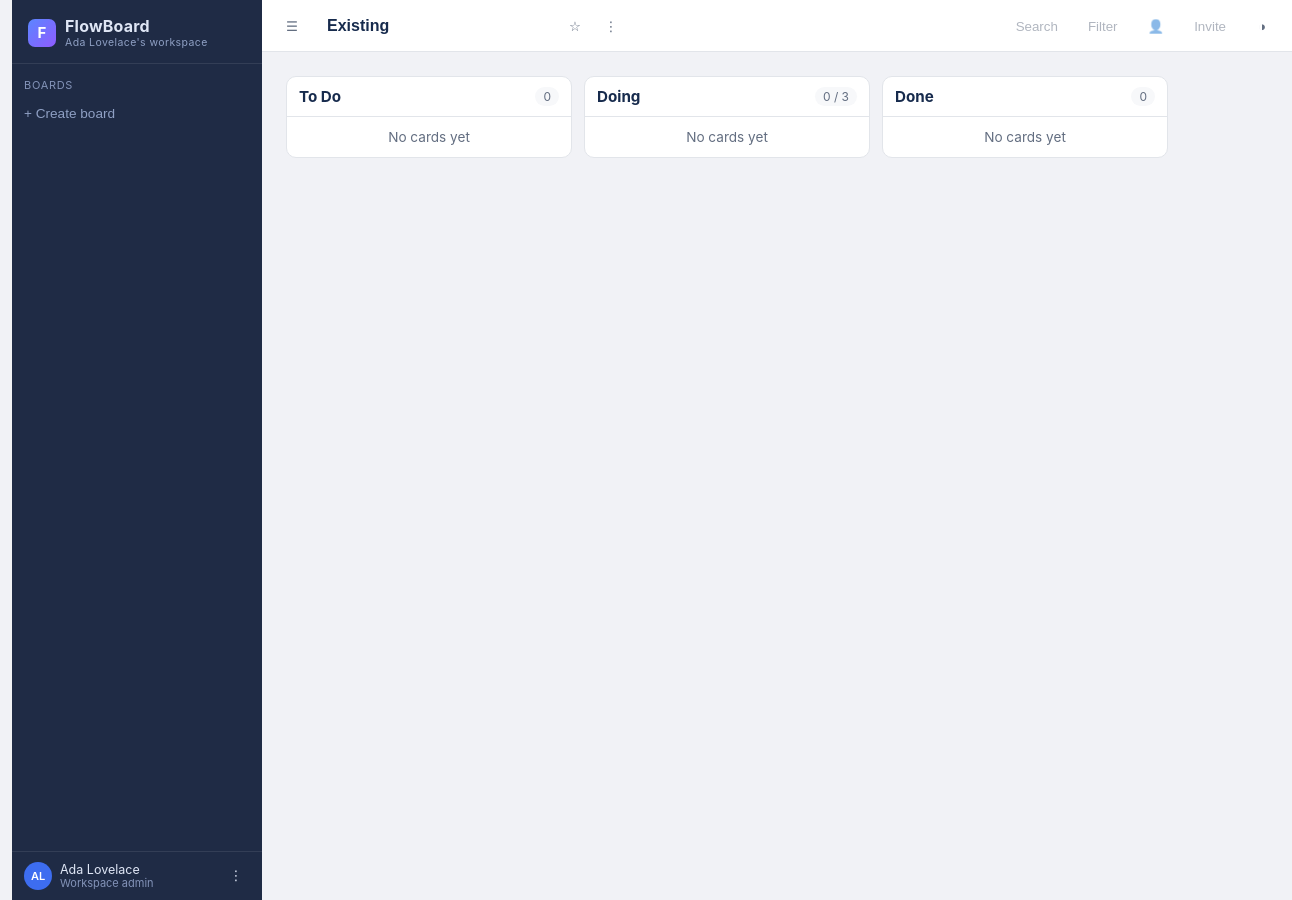
it: CreateBoard (FS §4.1, B-02, CL-E6, FB-04 spec AC 10) › Esc cancels back to the "+ Create board" button
Click the button "+ Create board": (137, 114) [12,98,262,129]
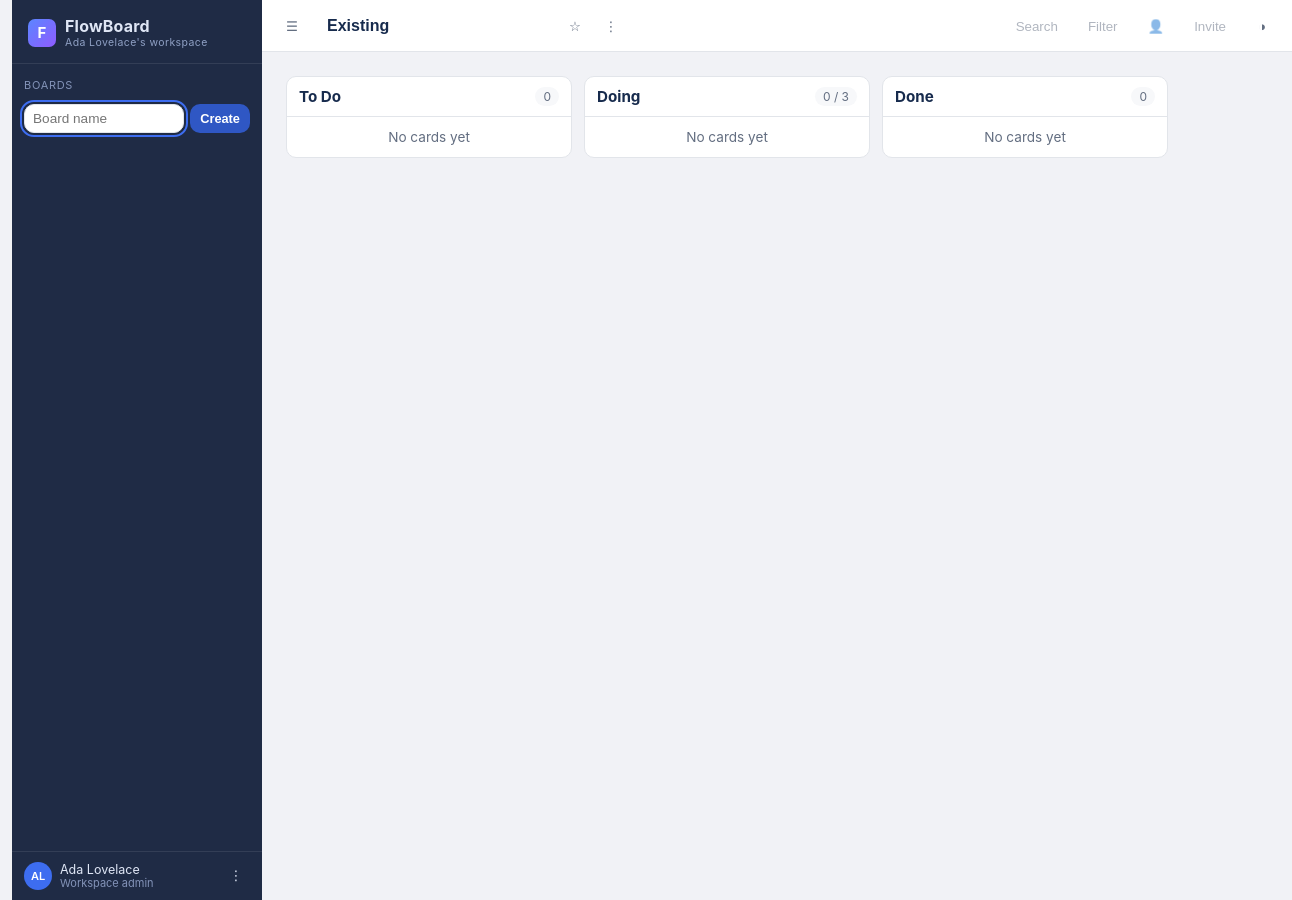
In the field with placeholder "Board name": (104, 118) [24,104,184,133], type "Something"
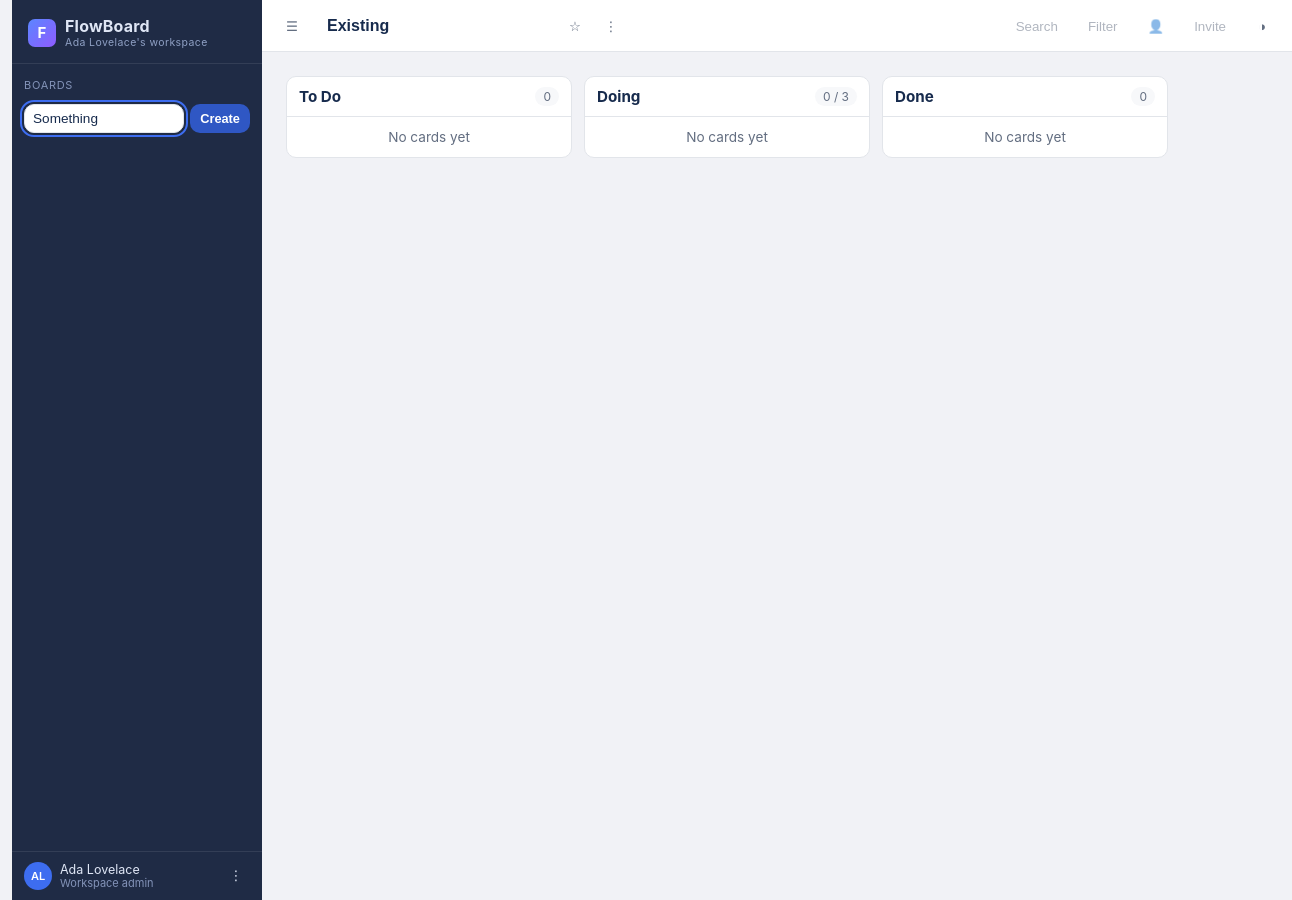
Press Escape in the field with placeholder "Board name" below "Boards", box [24,104,184,133]
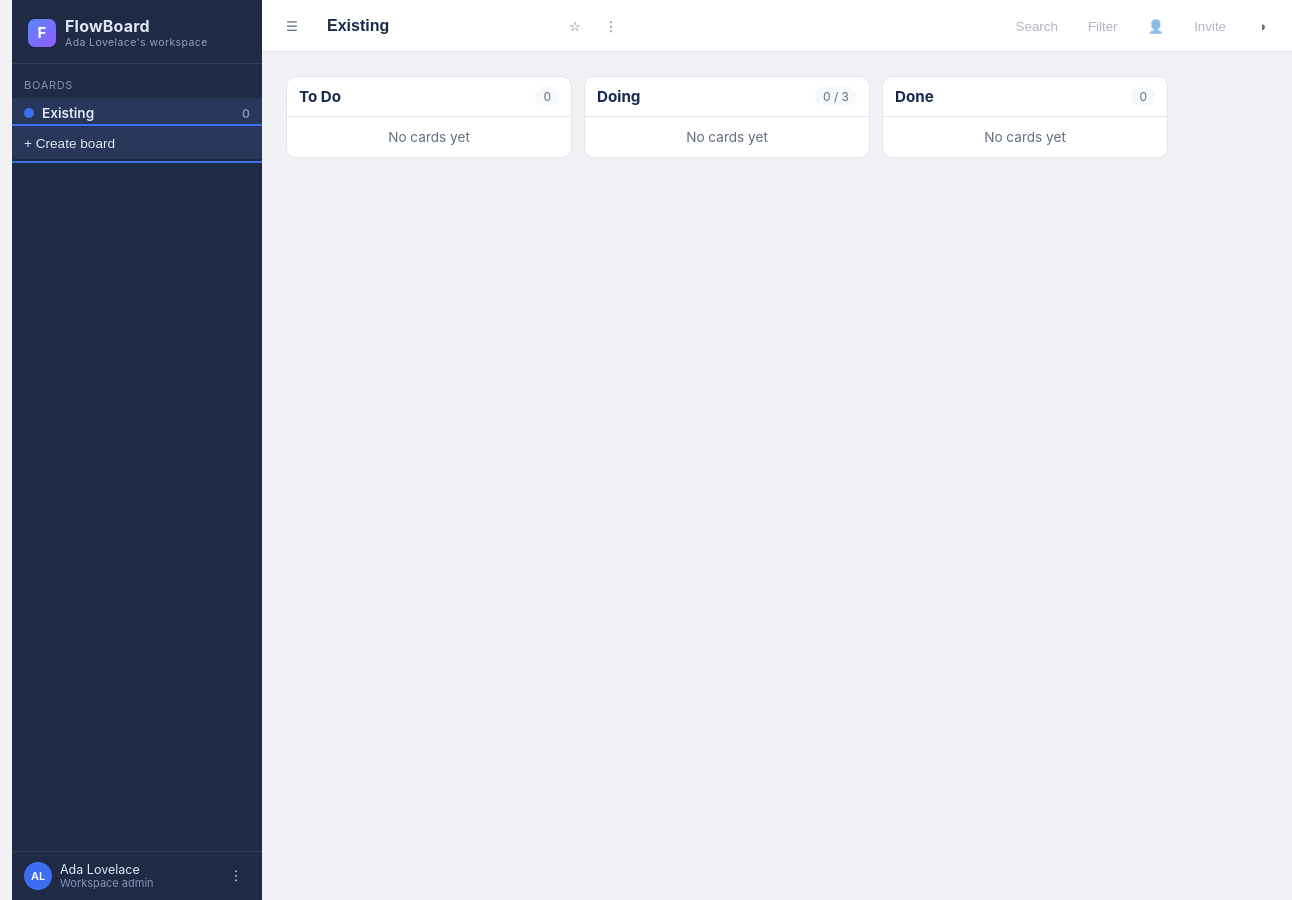
Result: the button "+ Create board" is shown at [12,128,262,159]
